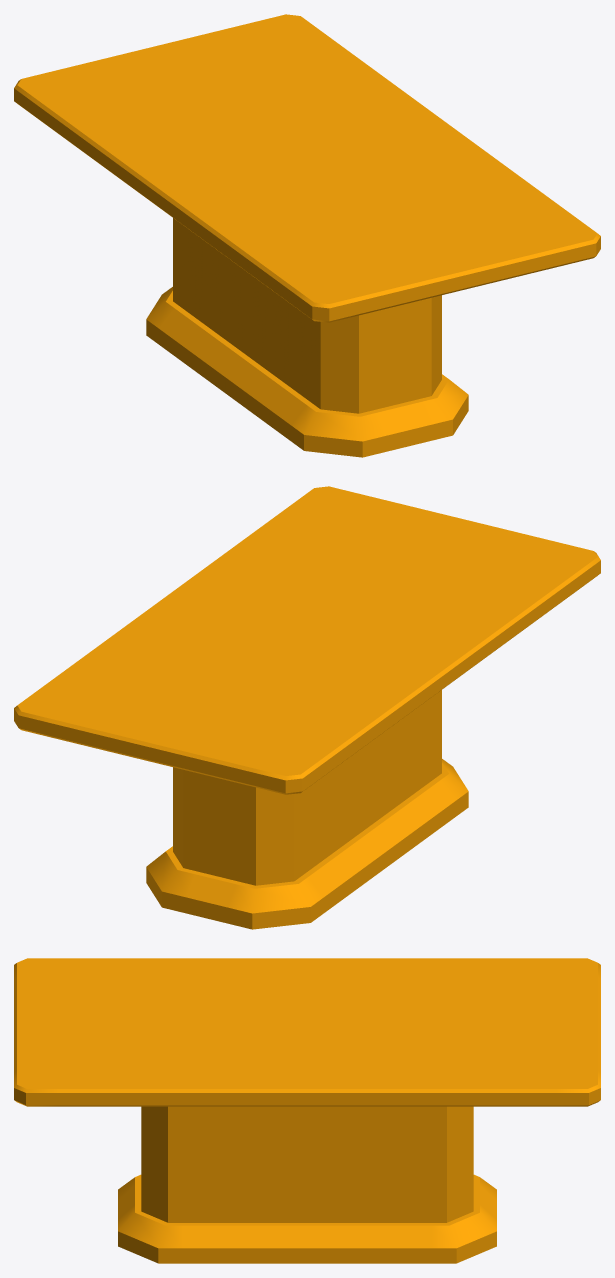
The model's file is mesa1.fbx.
3 views of the same model, one above another, from view 1: azimuth 30°, elevation 25°; view 2: azimuth 150°, elevation 25°; view 3: azimuth 270°, elevation 25° (orthographic). The views are drawn at different scales.
Parts seen in each view (by area): view 1: Cube; view 2: Cube; view 3: Cube.
Boxes of the visible parts, box(x1,y1,x2,y2) form: Cube: box(14, 14, 600, 457); Cube: box(14, 486, 600, 929); Cube: box(14, 958, 600, 1263).
Bounding box in the file's own units: 108 × 76.68 × 202.
